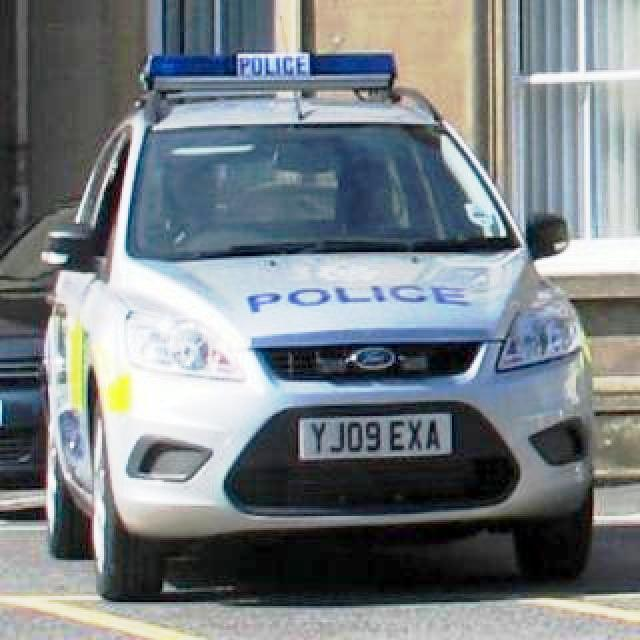license_plate: (301, 413, 454, 459)
